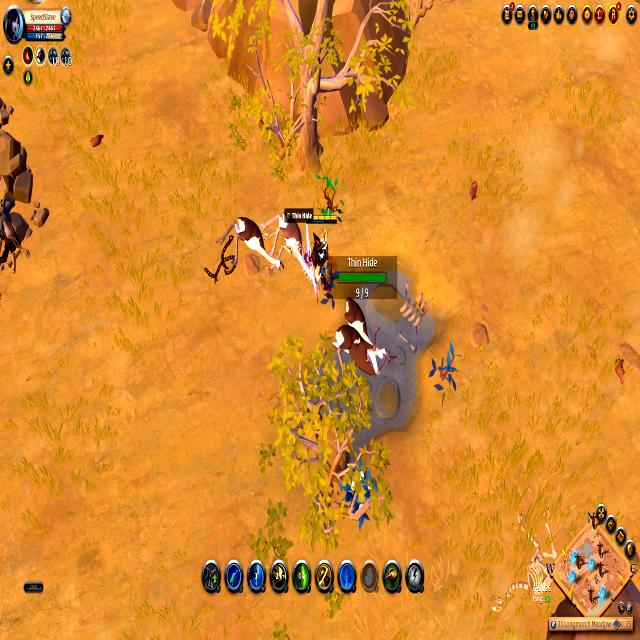mob: (220, 210, 290, 278), (332, 304, 389, 380), (260, 208, 309, 283)
red: (306, 211, 333, 277)
